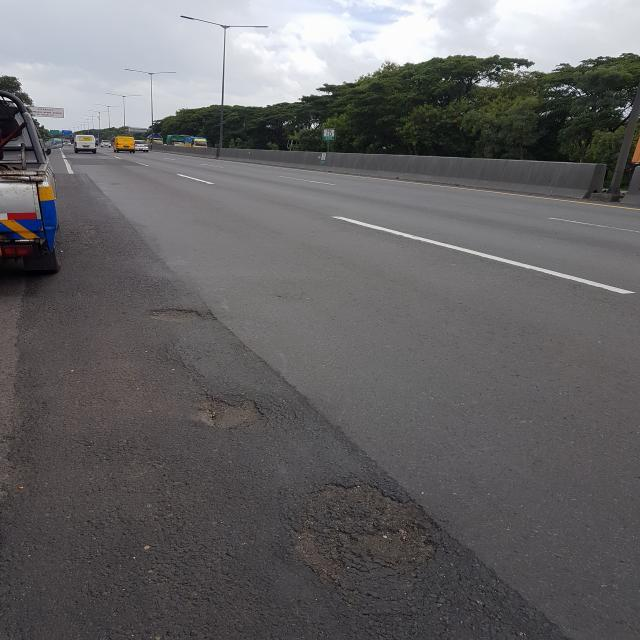Buraco: (283, 479, 443, 591), (182, 390, 268, 433), (145, 306, 219, 326)
